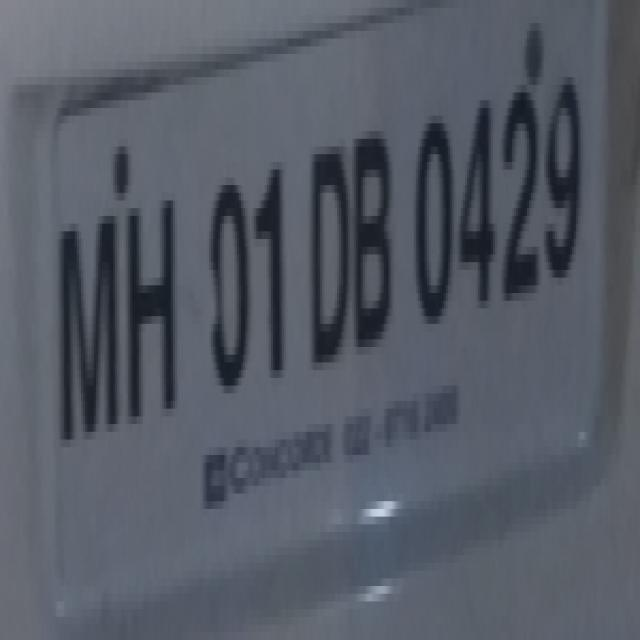0: (204, 155, 252, 391), (411, 93, 456, 324)
1: (252, 150, 291, 380)
4: (459, 71, 502, 320)
9: (546, 59, 588, 295)
B: (352, 123, 397, 357)
D: (304, 118, 354, 366)
H: (126, 200, 185, 438)
M: (54, 184, 124, 458)
